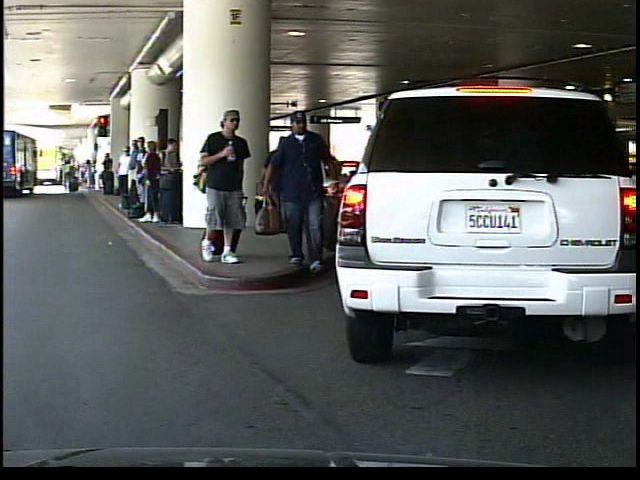person: (268, 105, 340, 275), (198, 106, 253, 266)
